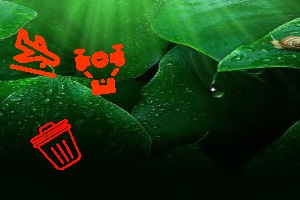垃圾桶: (30, 119, 82, 169)
弹弓: (73, 45, 128, 95)
飞机: (13, 29, 60, 80)
